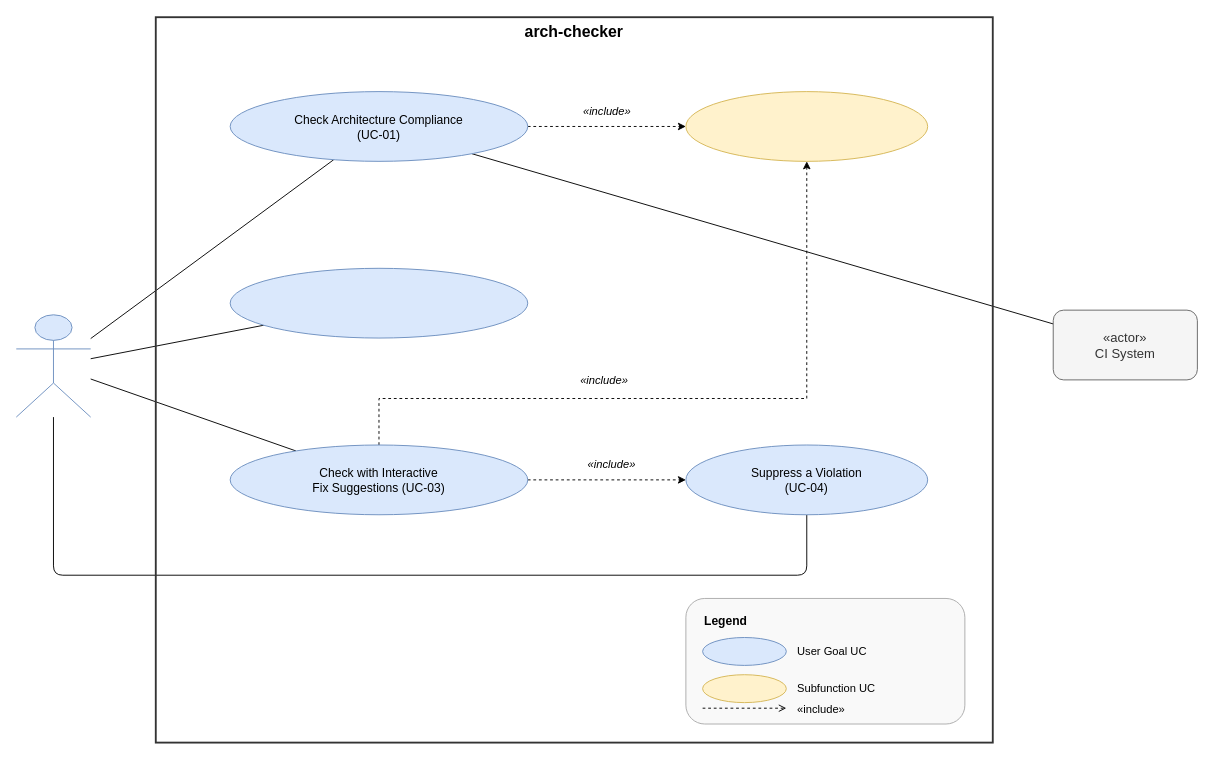
The diagram is 1214 pixels wide and 759 high, and some of its shapes have lost their labels. The shapes that lost their labels are listed below. From the top down, each one's centre as x and y in pixels, then its label:
At (806,126): "Load Style Profile (UC-05)".
At (378,302): "Define Style Profile (UC-02)".
At (53,365): "Developer".
